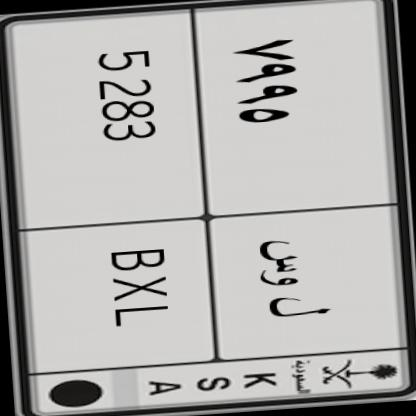english: (0, 0, 236, 384)
